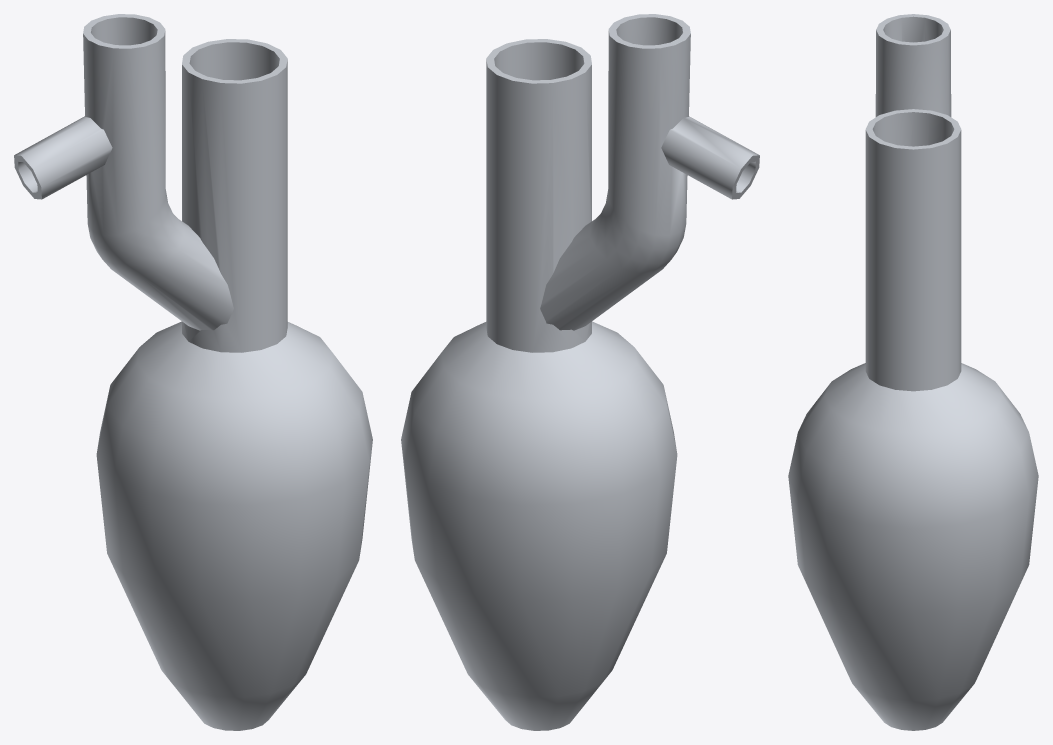
The model's file is bottle_glassware_claisen_flask_large.glb.
3 renders of one model, left to right at view 1: azimuth 30°, elevation 25°; view 2: azimuth 150°, elevation 25°; view 3: azimuth 270°, elevation 25°, orthographic. The views are drawn at different scales.
Visible parts, largest first — view 1: bottle_glassware_claisen_flask_large; view 2: bottle_glassware_claisen_flask_large; view 3: bottle_glassware_claisen_flask_large.
Boxes of the visible parts, x1=… form: bottle_glassware_claisen_flask_large: x1=14, y1=14, x2=372, y2=730; bottle_glassware_claisen_flask_large: x1=401, y1=14, x2=759, y2=730; bottle_glassware_claisen_flask_large: x1=788, y1=14, x2=1038, y2=730.
Size of the model in its own units: 19.74 by 41 by 14.27.
Materials: 1 (1 with a texture image).
